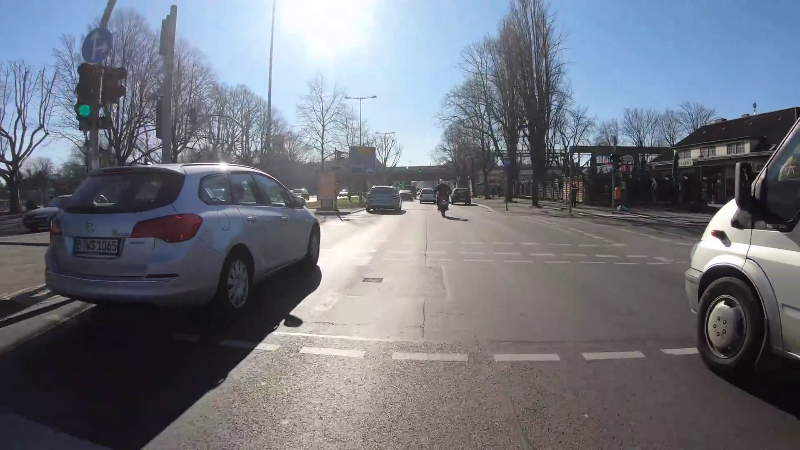Plate: (71, 236, 120, 256)
